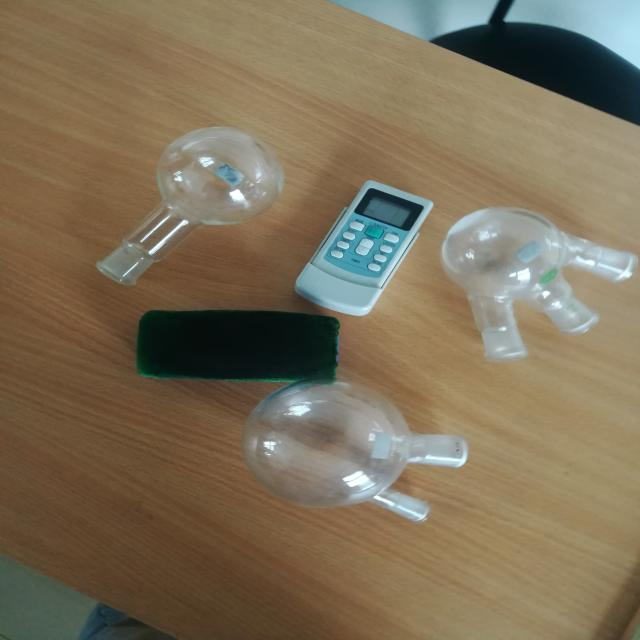Round_Bottom_Flask_Borosilicate_Glass_1_Neck: (71, 61, 308, 318)
Round_Bottom_Flask_Borosilicate_Glass_2_Neck: (222, 368, 492, 555)
Round_Bottom_Flask_Borosilicate_Glass_3_Neck: (426, 187, 640, 385)
